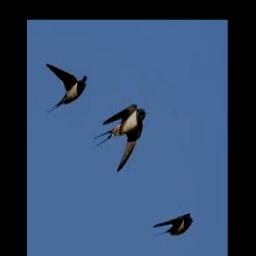Swallow: (93, 104, 146, 171), (46, 64, 86, 114), (152, 213, 192, 236)
